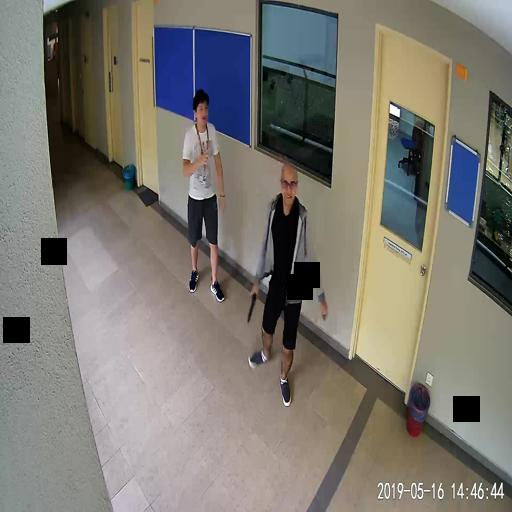Handgun: (246, 289, 256, 321)
